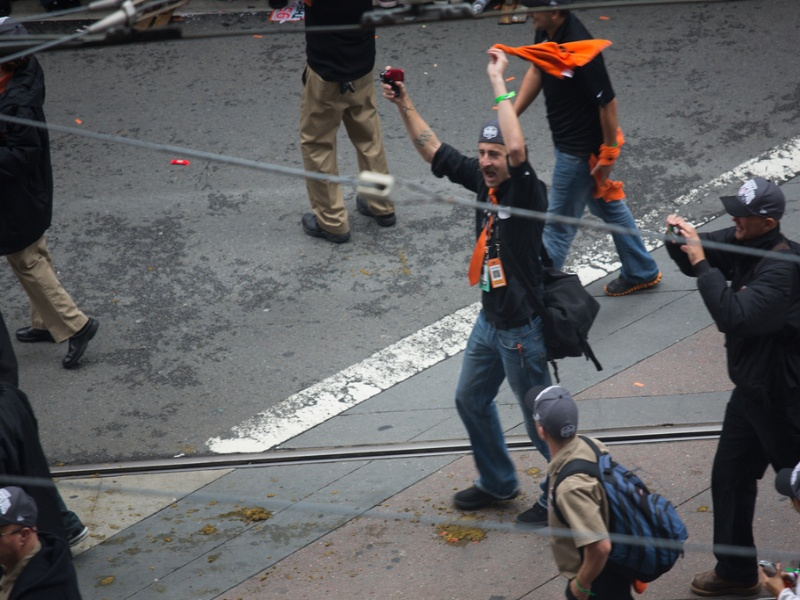person: (382, 54, 556, 534), (664, 169, 799, 600), (516, 1, 665, 294), (528, 377, 664, 600), (1, 55, 96, 357), (294, 9, 400, 244), (1, 484, 82, 600)
